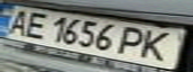1: (42, 15, 69, 44)
5: (78, 19, 100, 51)
6: (93, 21, 121, 53), (60, 16, 81, 47)
A: (0, 7, 33, 36)
E: (18, 10, 54, 39)
K: (133, 28, 187, 62)
P: (112, 25, 151, 57)
